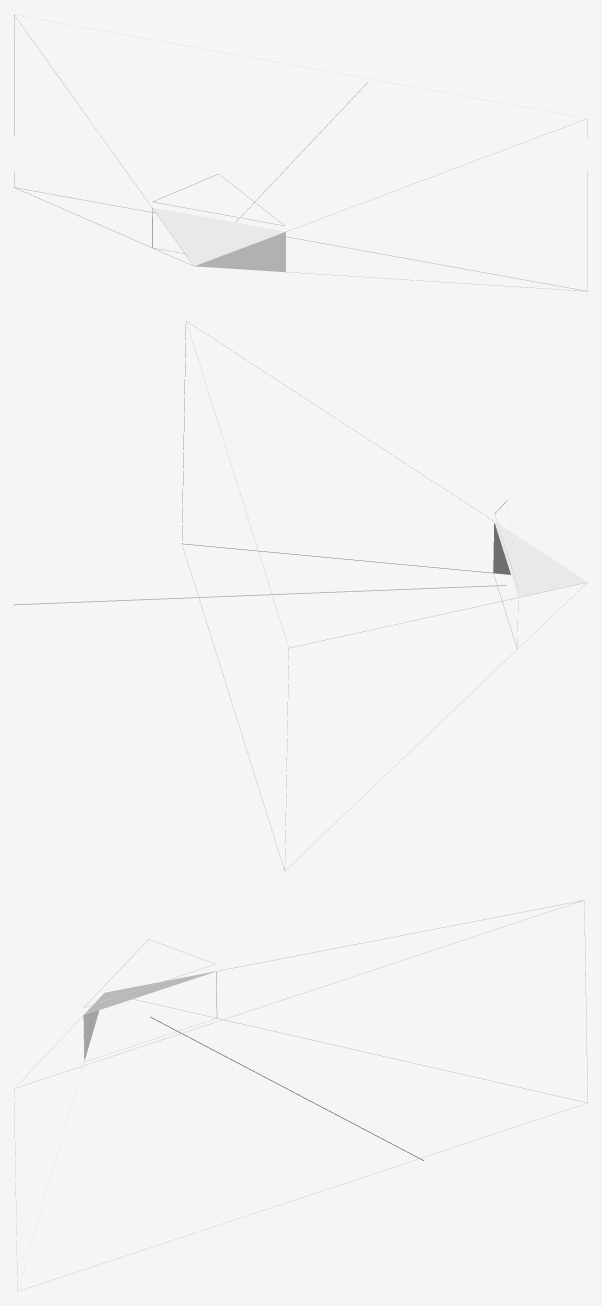
The model's file is câmera2.glb.
3 renders of one model, top to bottom at view 1: azimuth 30°, elevation 25°; view 2: azimuth 150°, elevation 25°; view 3: azimuth 270°, elevation 25°, orthographic. The views are drawn at different scales.
Parts seen in each view (by area): view 1: mesh_id6, mesh_id5; view 2: mesh_id6, mesh_id5, mesh_id7; view 3: mesh_id5, mesh_id6.
Part boxes in pixels (x1=…): mesh_id6: x1=152, y1=208, x2=285, y2=272; mesh_id5: x1=14, y1=14, x2=587, y2=291; mesh_id6: x1=493, y1=521, x2=587, y2=648; mesh_id5: x1=181, y1=321, x2=518, y2=870; mesh_id7: x1=14, y1=585, x2=505, y2=605; mesh_id5: x1=14, y1=900, x2=587, y2=1291; mesh_id6: x1=83, y1=971, x2=216, y2=1061.
Bounding box in the file's own units: 0.3837 × 0.1832 × 0.4625.
Materials: 4 (4 with a texture image).
